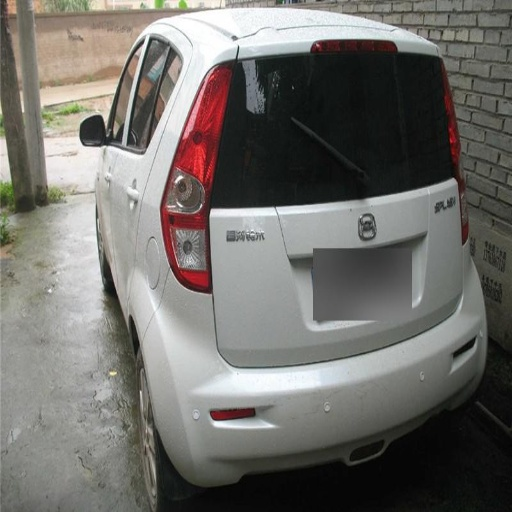back_bumper: (125, 272, 480, 484)
back_glass: (276, 53, 440, 190)
back_left_light: (162, 113, 214, 293)
back_right_door: (242, 55, 281, 111)
tailgate: (210, 180, 453, 362)
trunk: (210, 151, 362, 257), (388, 209, 461, 343), (221, 312, 306, 366)
